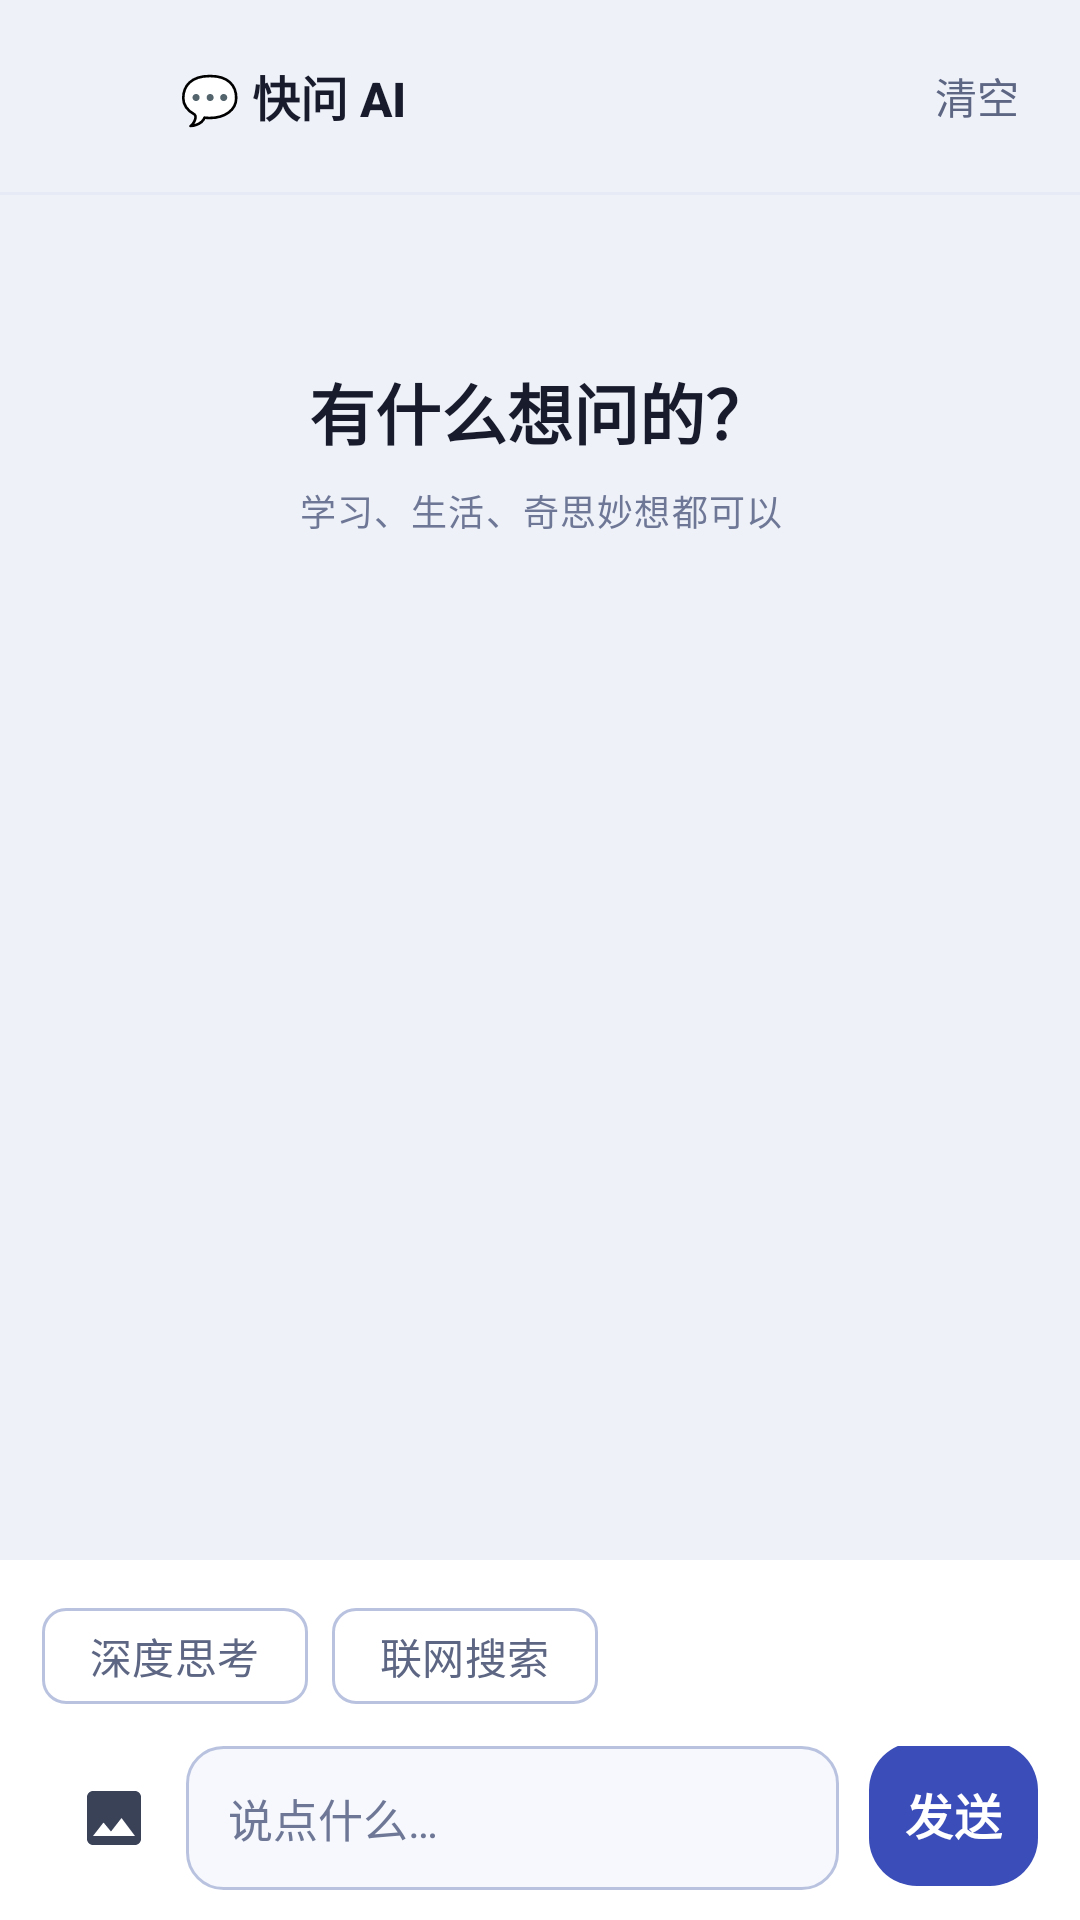

Icon click points for this 1080px x 1920px phone screenshot, format [x,y]:
选图片: [114,1818]
